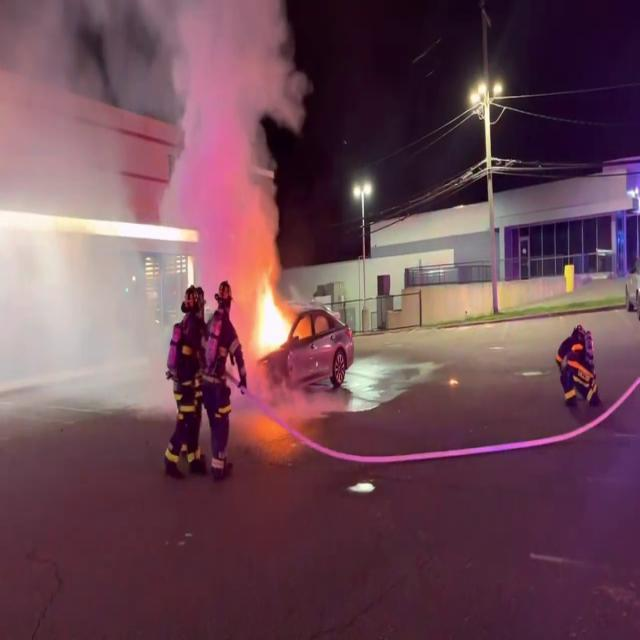Fire: (246, 264, 298, 362)
Smoke: (0, 0, 319, 411)
